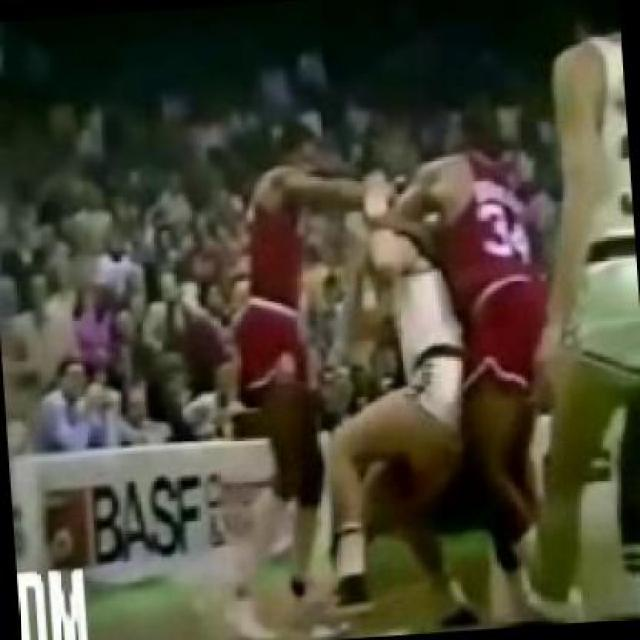fight: (305, 134, 567, 637)
